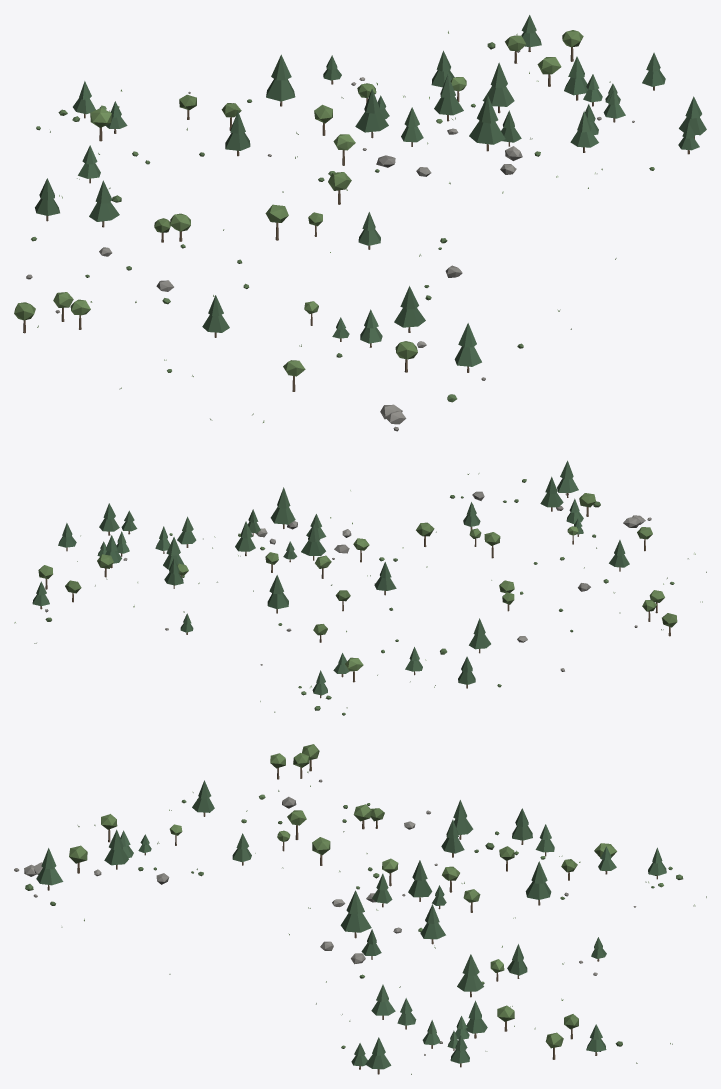
File: arch_land_scatter_c16_21_lod1.glb
The picture shows the model from 3 angles, top to bottom: view 1: azimuth 30°, elevation 25°; view 2: azimuth 150°, elevation 25°; view 3: azimuth 270°, elevation 25°; orthographic projection. The views are drawn at different scales.
Visible parts, largest first — view 1: arch_land_scatter_c16_21_lod1; view 2: arch_land_scatter_c16_21_lod1; view 3: arch_land_scatter_c16_21_lod1.
Boxes of the visible parts, x1=… form: arch_land_scatter_c16_21_lod1: x1=14, y1=15, x2=706, y2=431; arch_land_scatter_c16_21_lod1: x1=14, y1=460, x2=706, y2=715; arch_land_scatter_c16_21_lod1: x1=14, y1=744, x2=706, y2=1074.
Size of the model in its own units: 214 by 33.4 by 204.
